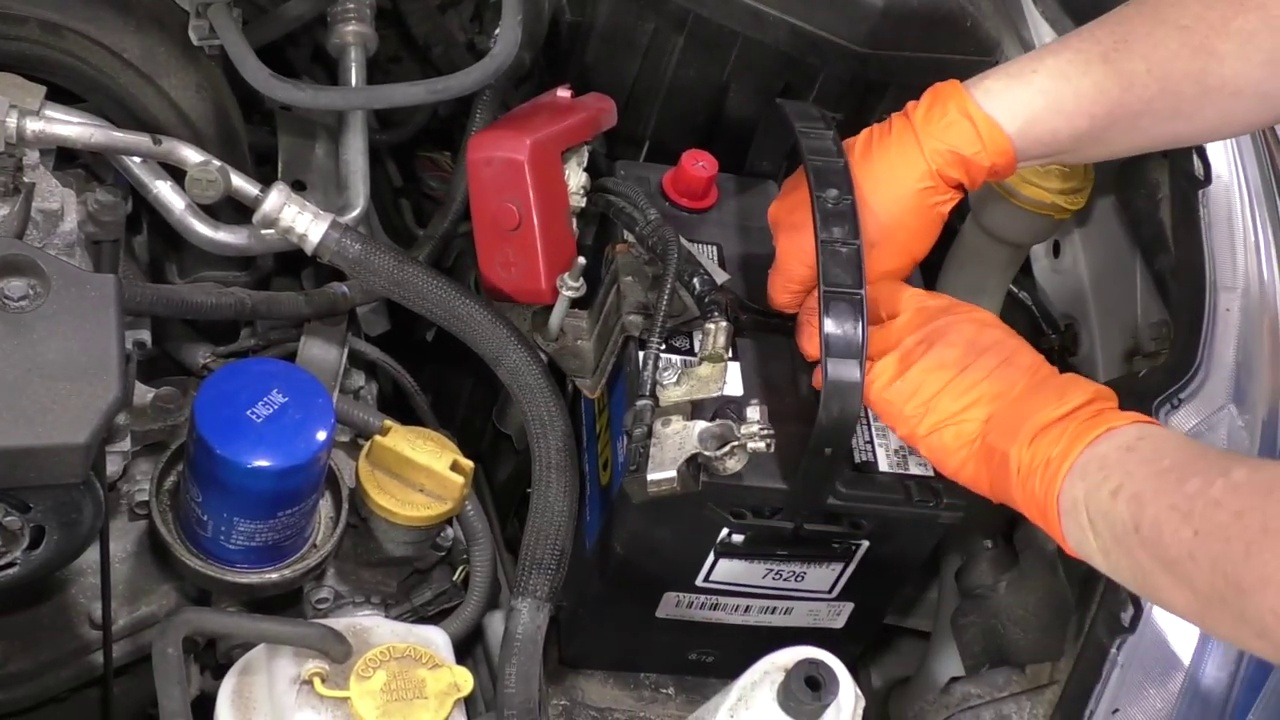battery: (617, 148, 971, 517)
pos_disconnected: (453, 97, 744, 262)
